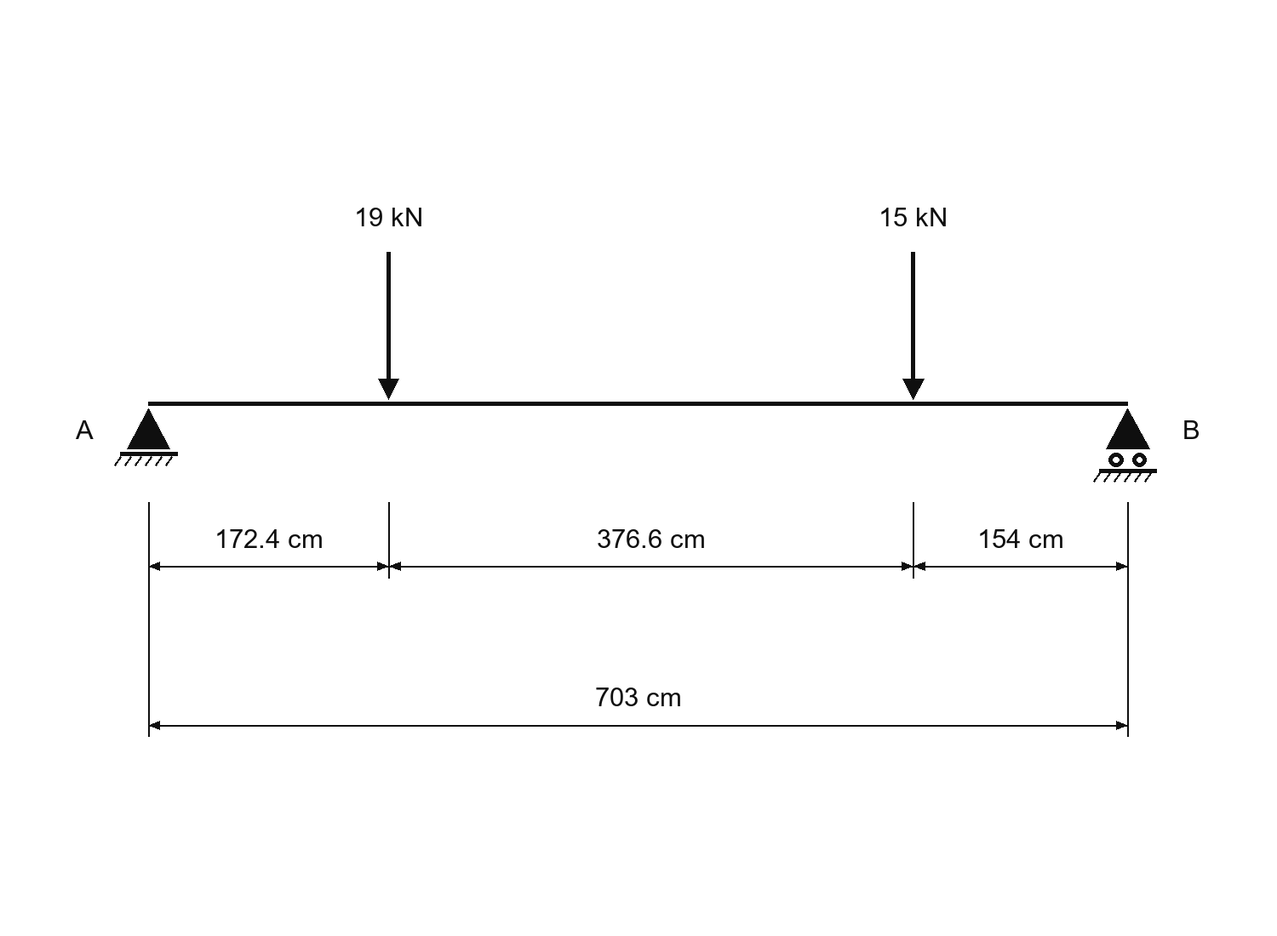pin_support: (114, 408, 178, 466)
point_load: (902, 252, 925, 400), (378, 252, 399, 400)
roller_support: (1093, 408, 1157, 482)
